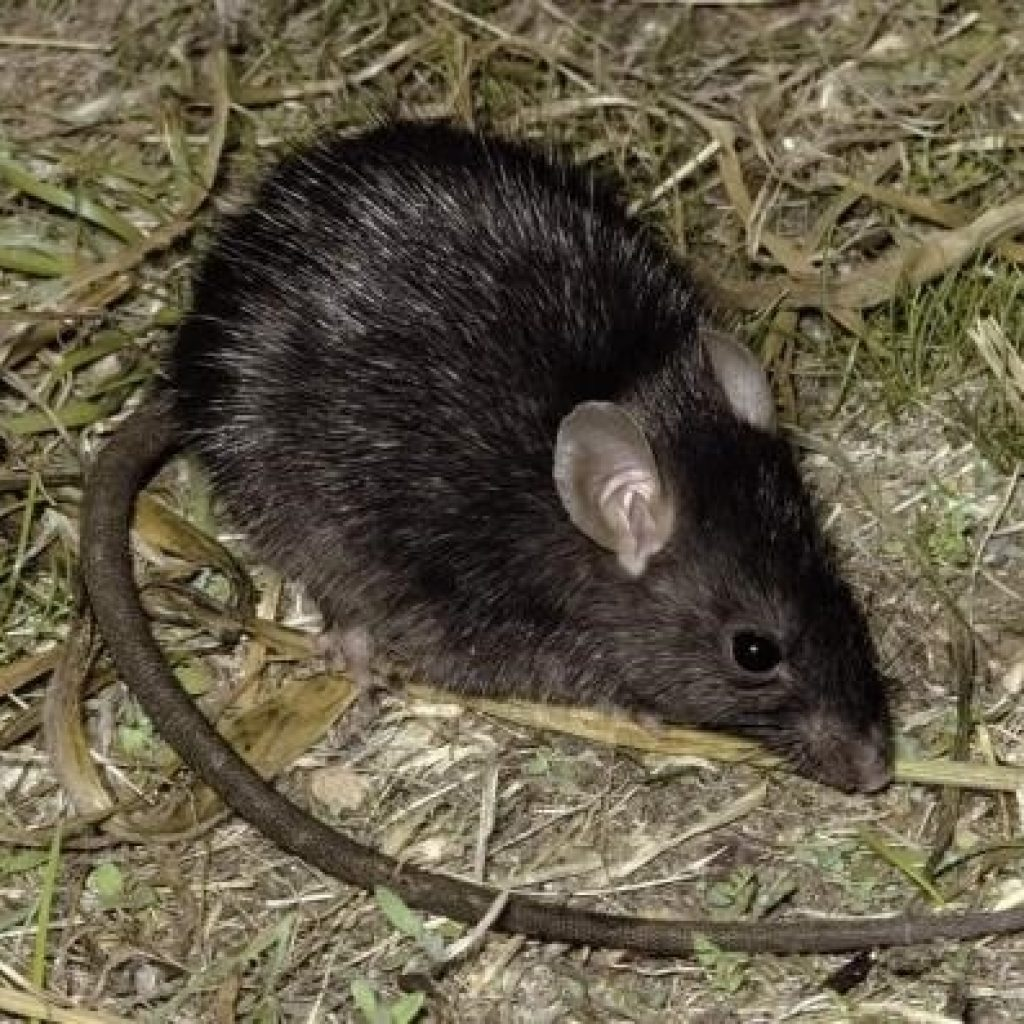rat: (66, 91, 911, 957)
